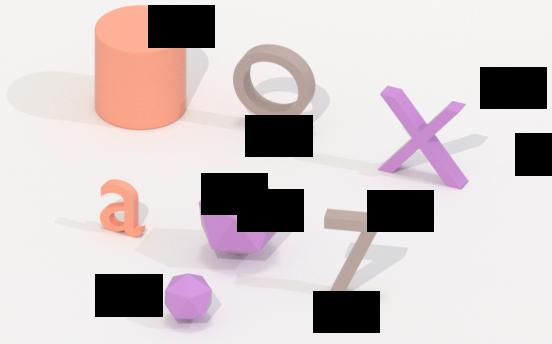7: (321, 204, 389, 305)
a: (99, 174, 147, 241)
dagiac: (191, 174, 287, 260), (161, 268, 218, 326)
q: (231, 43, 318, 136)
tru: (92, 3, 190, 138)
x: (379, 86, 475, 194)
